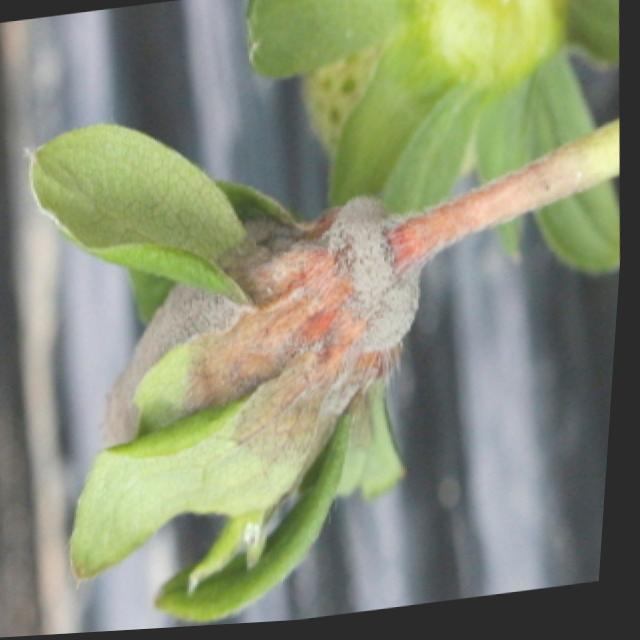Gray Mold: (102, 196, 456, 472)
